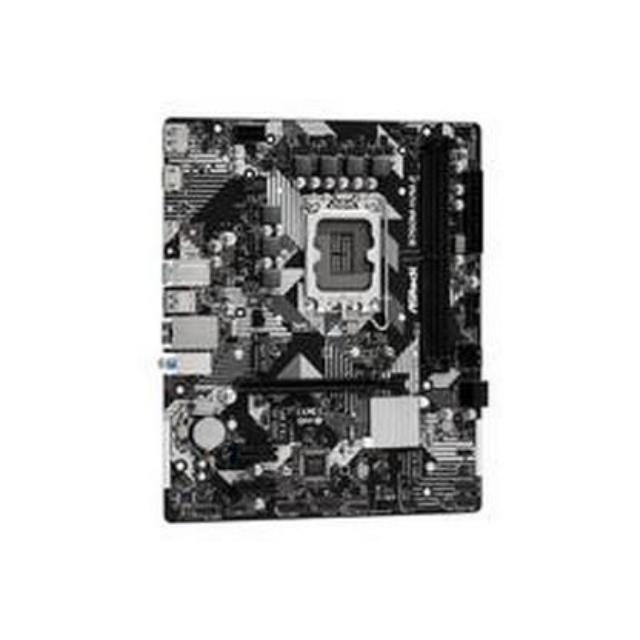Mainboard: (153, 109, 487, 524)
